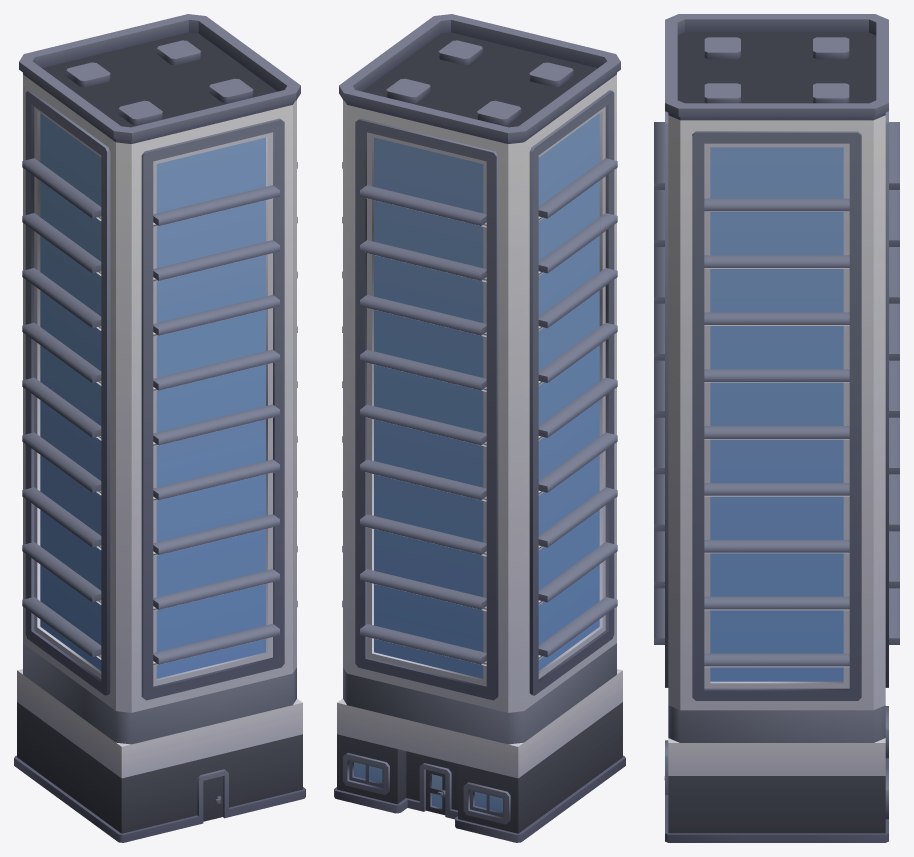
File: commercial-building-skyscraper-b.glb
3 renders of one model, left to right at view 1: azimuth 30°, elevation 25°; view 2: azimuth 150°, elevation 25°; view 3: azimuth 270°, elevation 25°, orthographic. The views are drawn at different scales.
Visible parts, largest first — view 1: building-skyscraper-b; view 2: building-skyscraper-b; view 3: building-skyscraper-b.
Boxes of the visible parts, x1,y1,x2,y2 form: building-skyscraper-b: [14, 14, 305, 842]; building-skyscraper-b: [334, 14, 625, 842]; building-skyscraper-b: [654, 14, 899, 842].
Bounding box in the file's own units: 1.36 × 4.48 × 1.36.
1 material, 1 textured.
